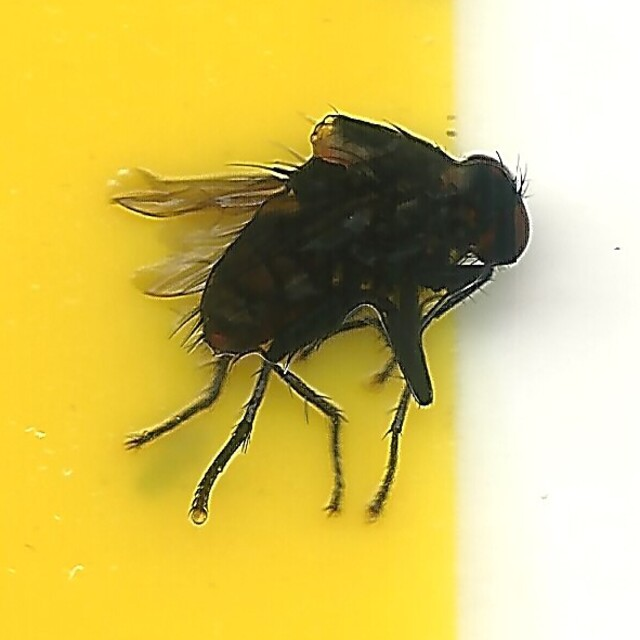Brachycera: (108, 116, 532, 524)
